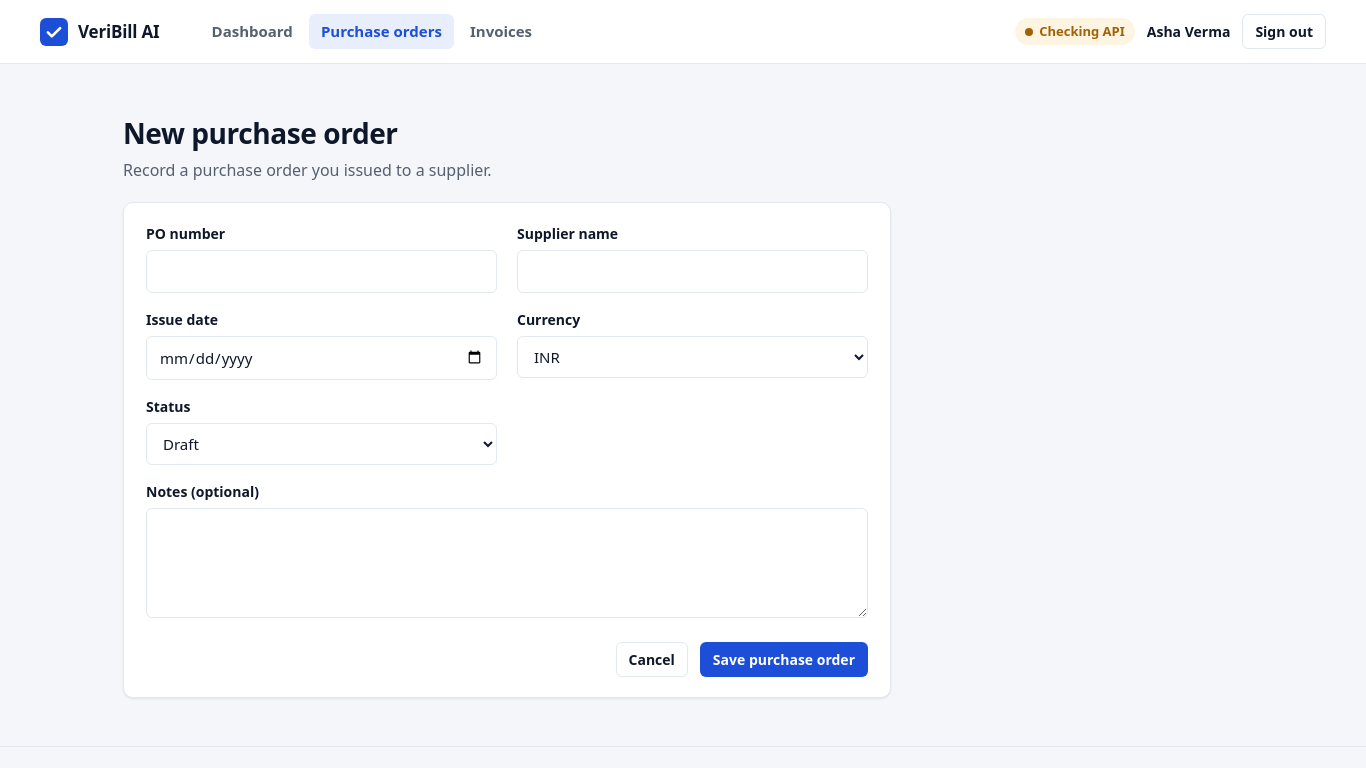
NewPurchaseOrderPage › saves the purchase order and opens it
Expected: the heading "New purchase order" is shown, x1=123 y1=114 x2=398 y2=152
Type "PO-2026-001" into the field labelled "PO number". click: (322, 271)
box: x1=146 y1=250 x2=497 y2=292
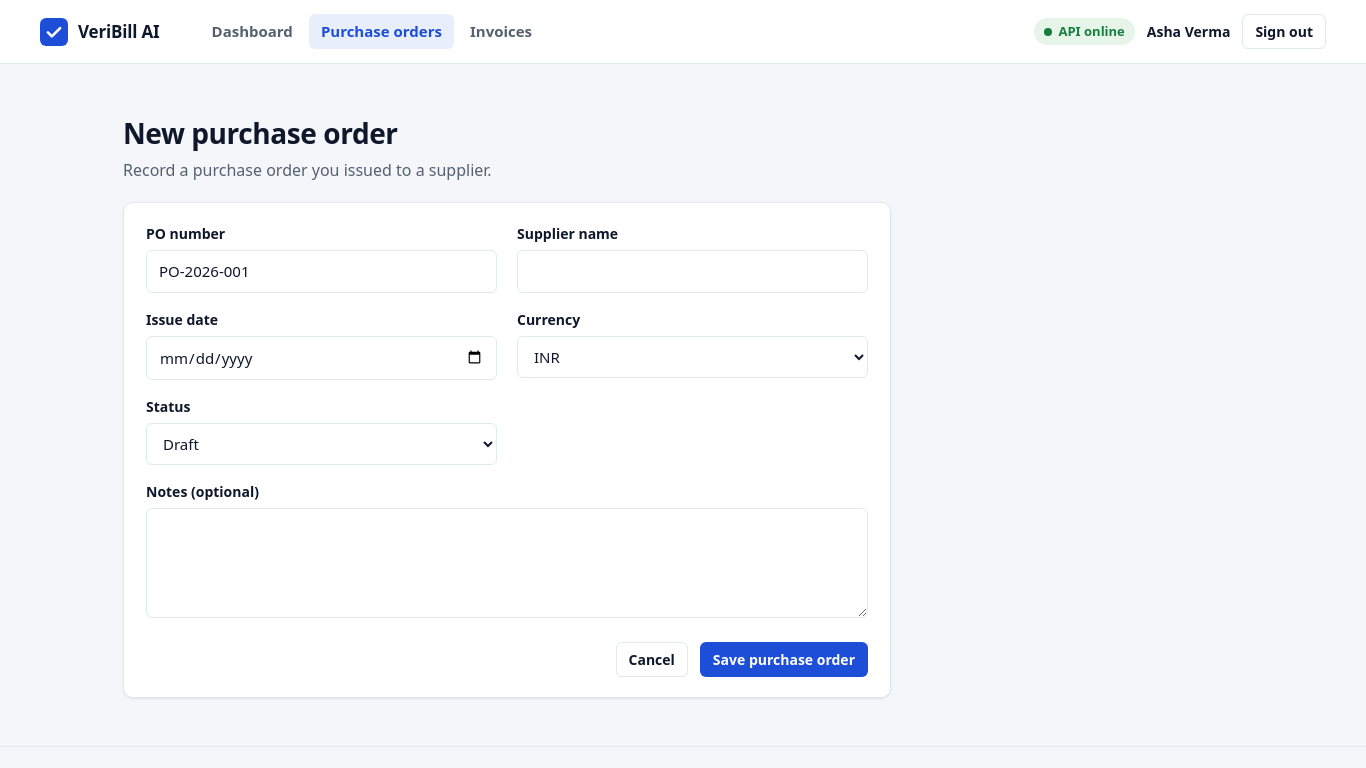
Type "Acme Industrial Supplies" into the field labelled "Supplier name". click: (692, 271)
box: x1=517 y1=250 x2=868 y2=292
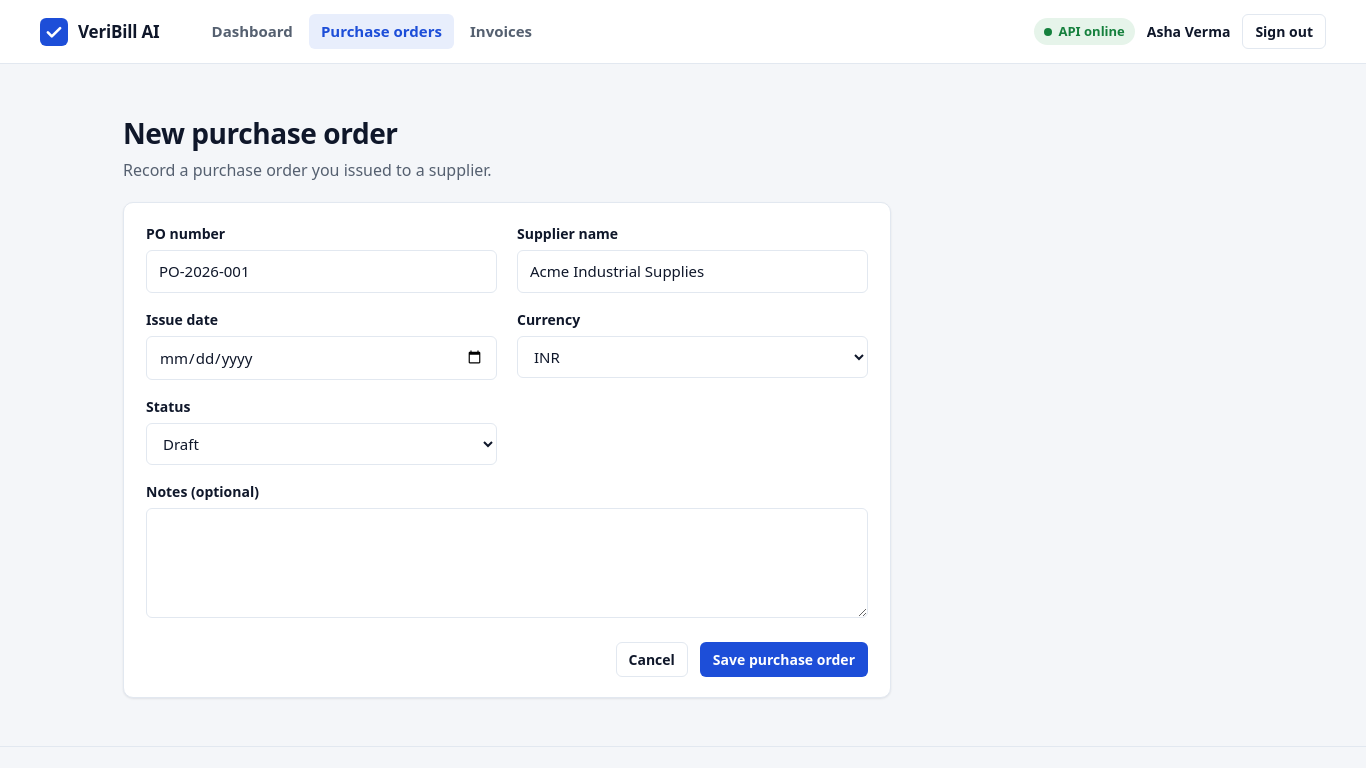
Type "2026-10-01" into the date field labelled "Issue date". click: (322, 358)
box: x1=146 y1=336 x2=497 y2=380
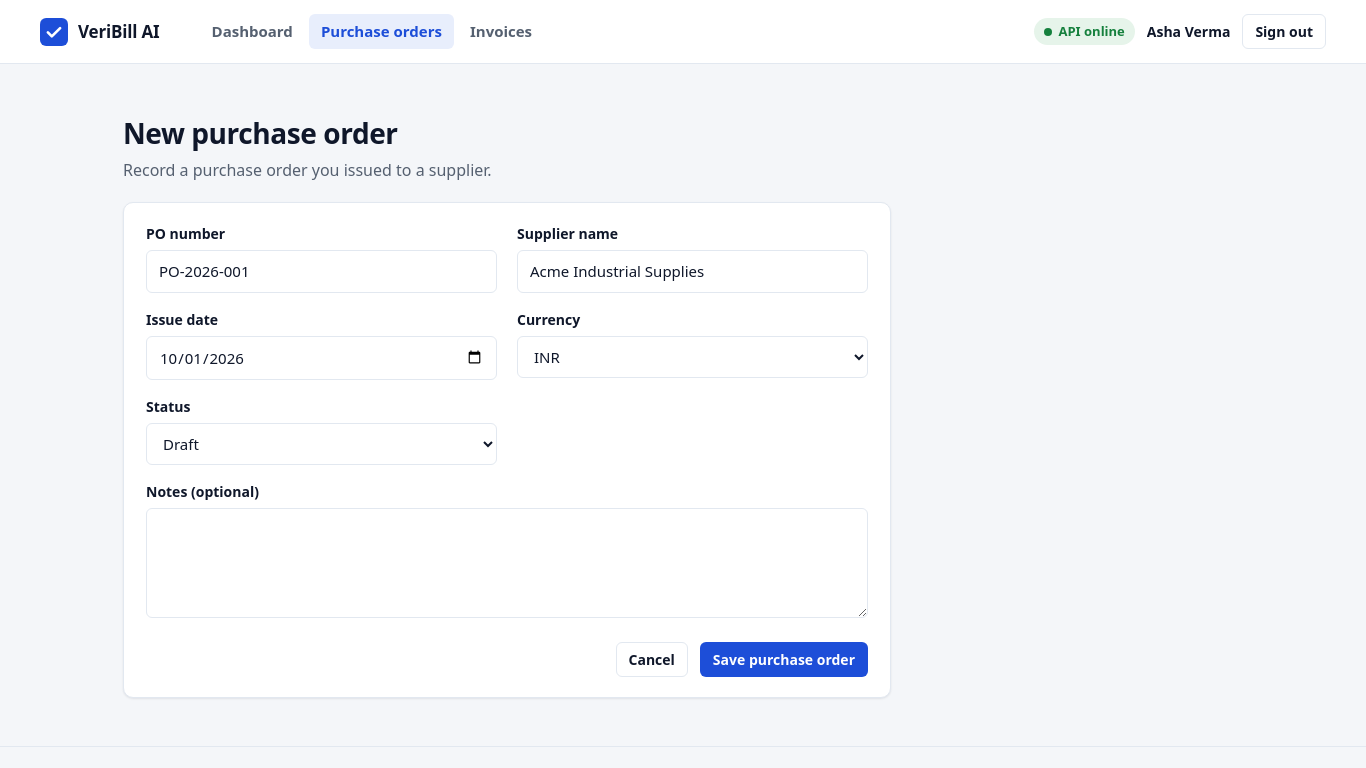
Select "Open" in the dropdown labelled "Status". click: (322, 444)
box: x1=146 y1=423 x2=497 y2=465
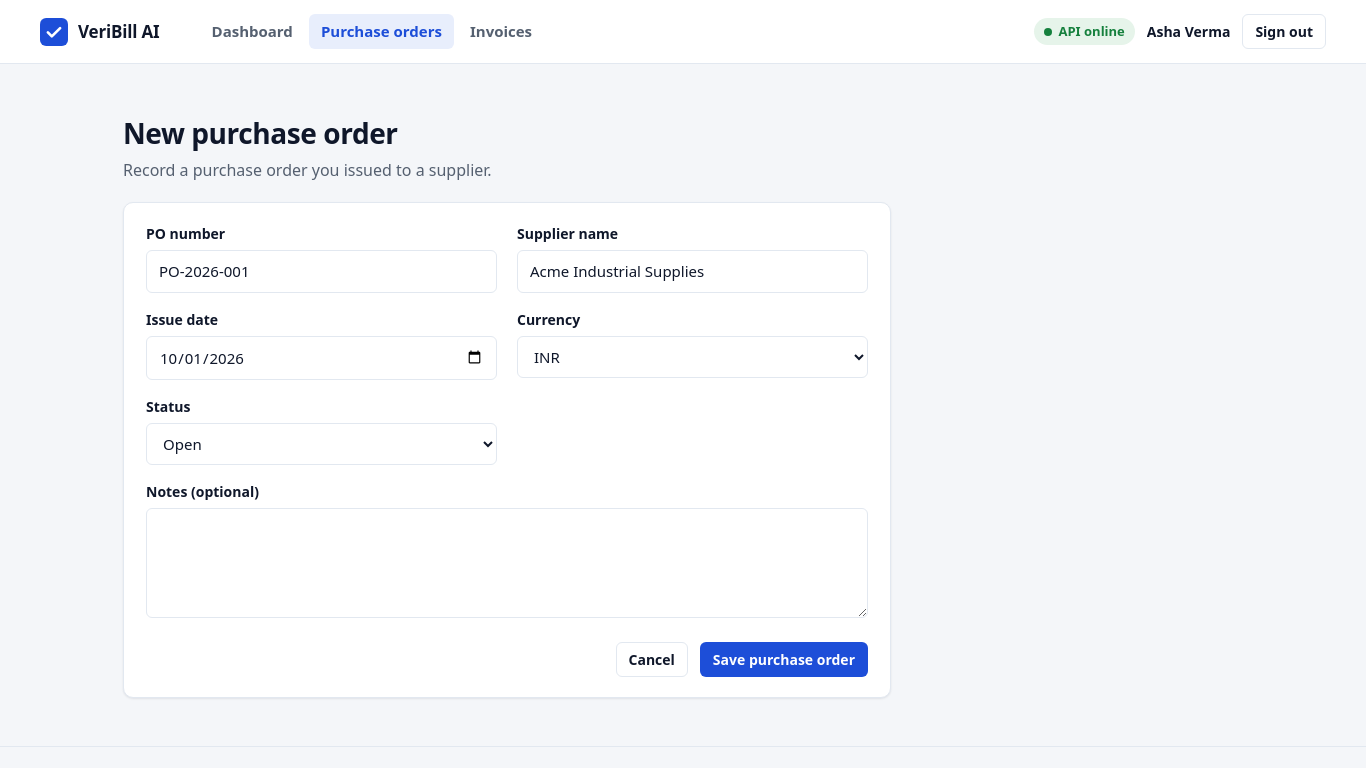
Type "Deliver to gate 2" into the text box labelled "Notes (optional)". click: (507, 563)
box: x1=146 y1=508 x2=868 y2=618
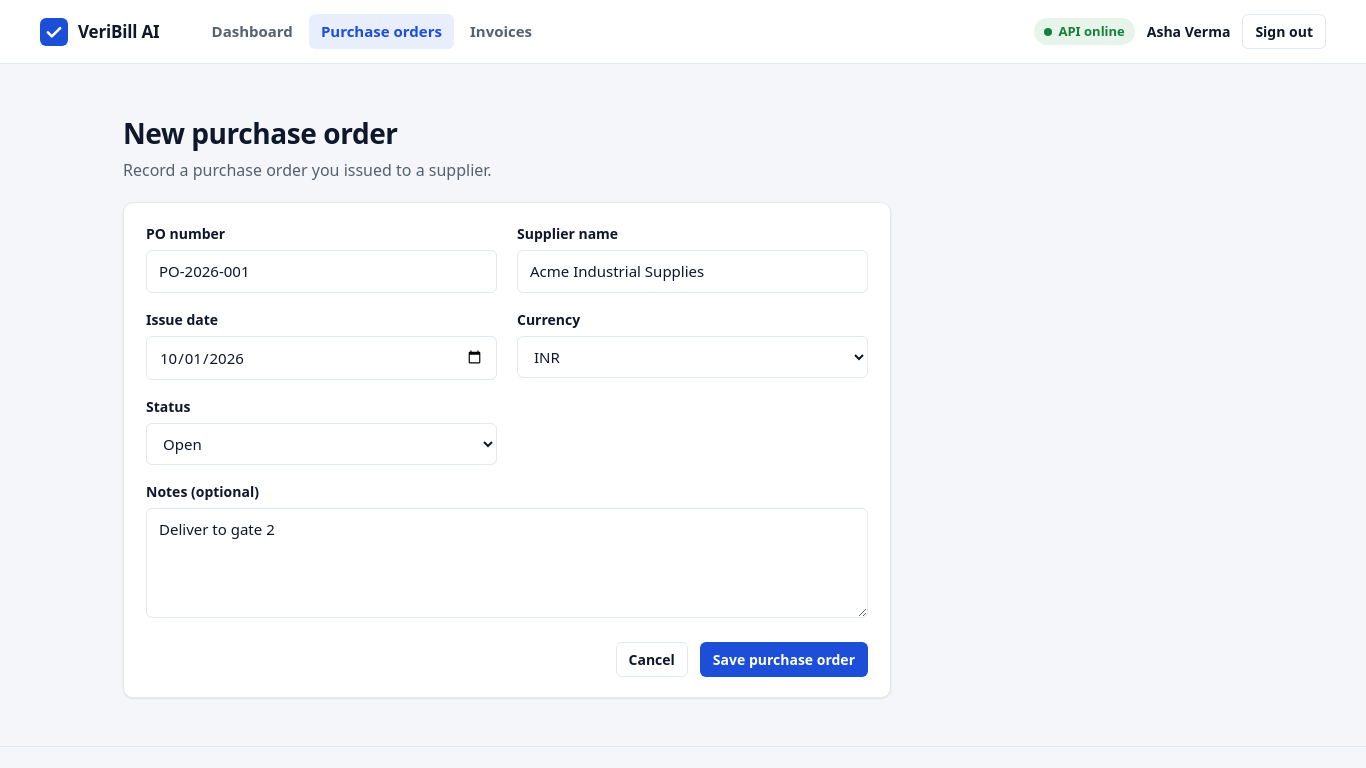
Click the button "Save purchase order". click: (784, 660)
box: x1=700 y1=642 x2=868 y2=677
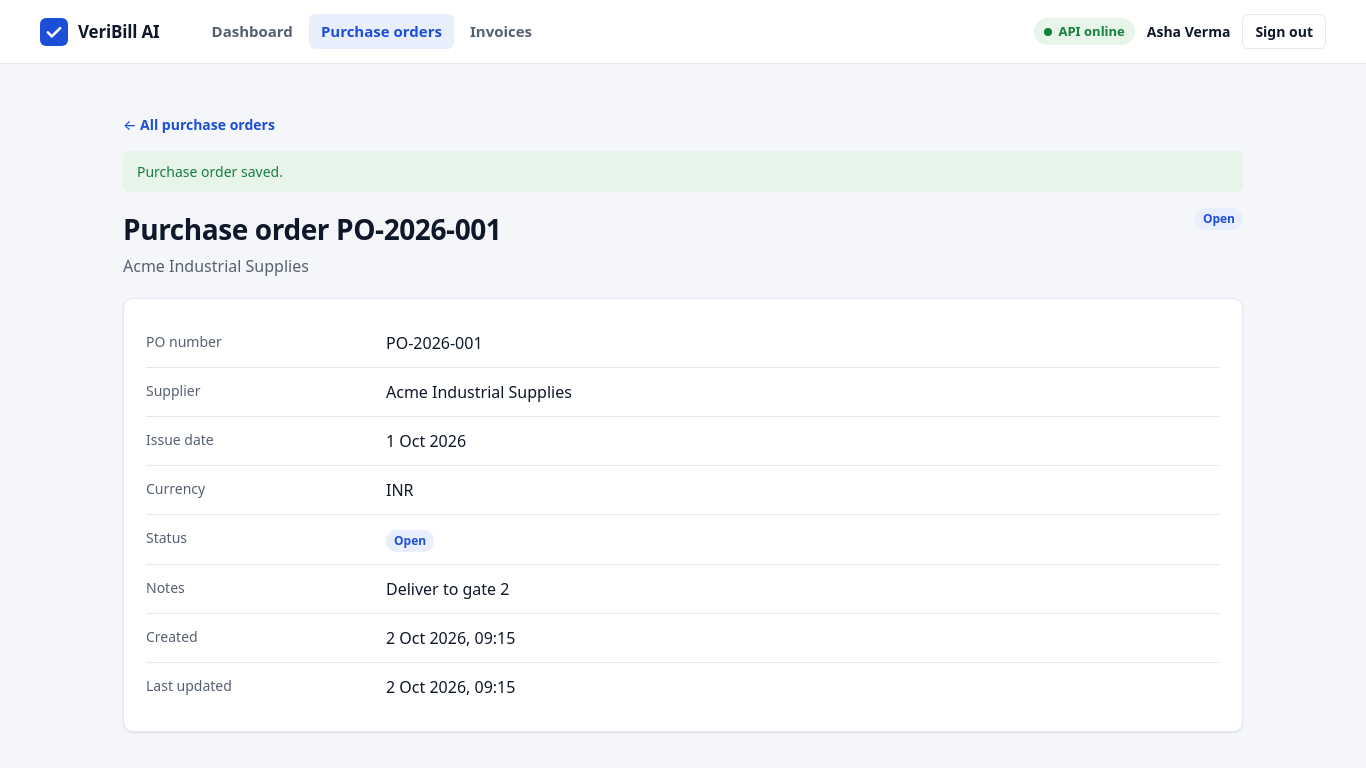
Expected: the text "Purchase order saved." is shown, x1=123 y1=151 x2=1243 y2=192
Expected: the heading "Purchase order PO-2026-001" is shown, x1=123 y1=208 x2=501 y2=250
Expected: the text "Deliver to gate 2" is shown, x1=386 y1=578 x2=509 y2=600
